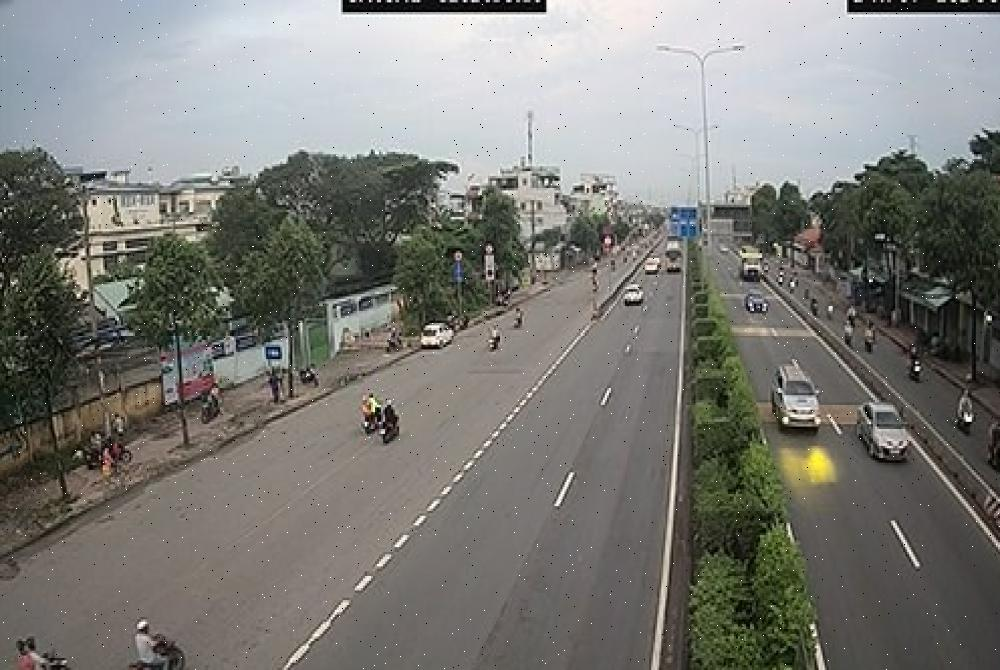car: (859, 394, 909, 478), (775, 362, 822, 448), (411, 313, 459, 363)
